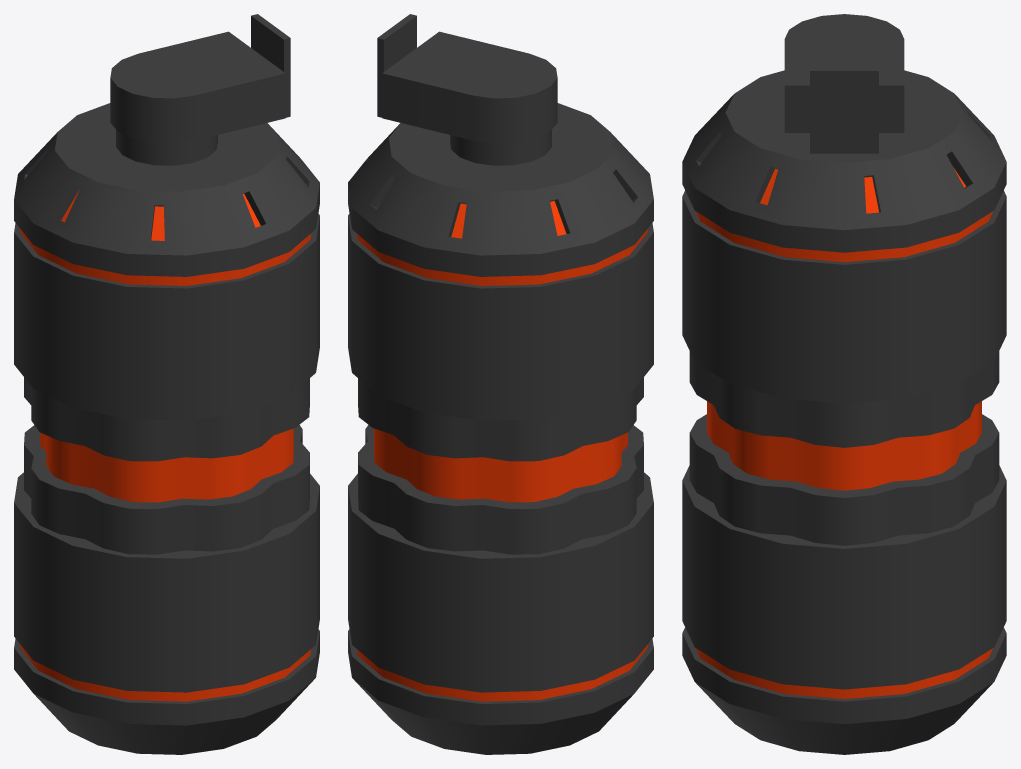
The model's file is Grenade (2).fbx.
3 renders of one model, left to right at view 1: azimuth 30°, elevation 25°; view 2: azimuth 150°, elevation 25°; view 3: azimuth 270°, elevation 25°, orthographic. The views are drawn at different scales.
Parts seen in each view (by area): view 1: Grenade, GrenadeNeon; view 2: Grenade, GrenadeNeon; view 3: Grenade, GrenadeNeon.
Part boxes in pixels (bbox=[...]): Grenade: bbox=[14, 14, 319, 754]; GrenadeNeon: bbox=[20, 189, 311, 701]; Grenade: bbox=[348, 14, 653, 754]; GrenadeNeon: bbox=[356, 201, 647, 701]; Grenade: bbox=[682, 14, 1006, 754]; GrenadeNeon: bbox=[695, 167, 993, 698].
Bounding box in the file's own units: 13.9 × 32.58 × 13.9.
1 material, 1 textured.
